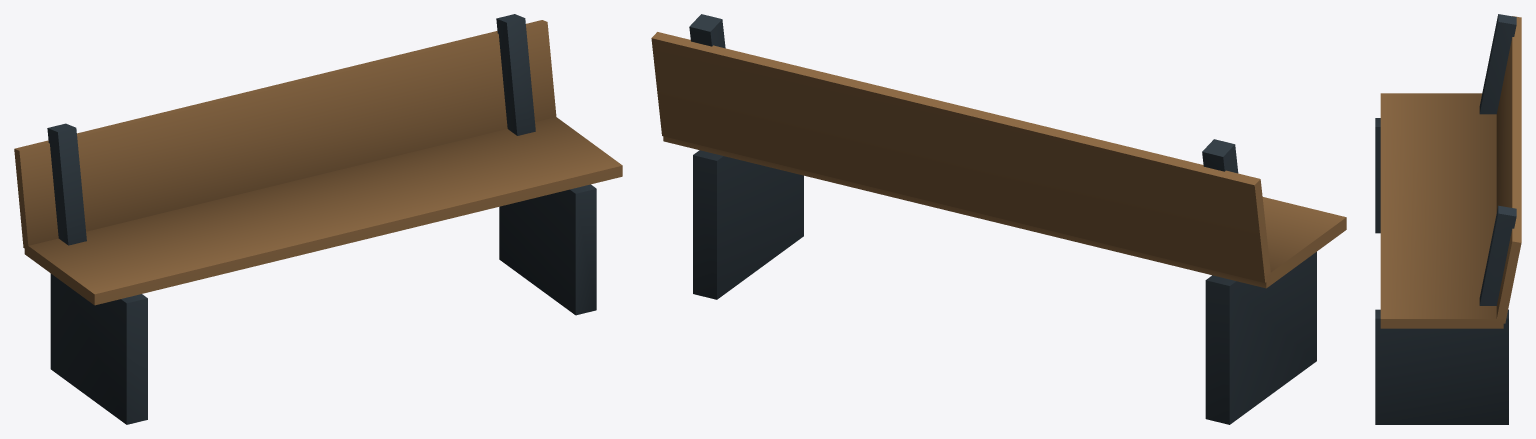
Rendered from street-bench.lod2.glb.
The picture shows the model from 3 angles, left to right: view 1: azimuth 30°, elevation 25°; view 2: azimuth 150°, elevation 25°; view 3: azimuth 270°, elevation 25°; orthographic projection. The views are drawn at different scales.
Parts seen in each view (by area): view 1: structure; view 2: structure; view 3: structure.
Part boxes in pixels (<box>): structure: <box>14,14,622,424</box>; structure: <box>651,14,1346,424</box>; structure: <box>1375,14,1521,424</box>.
Size of the model in its own units: 2 by 0.8722 by 0.5476.
